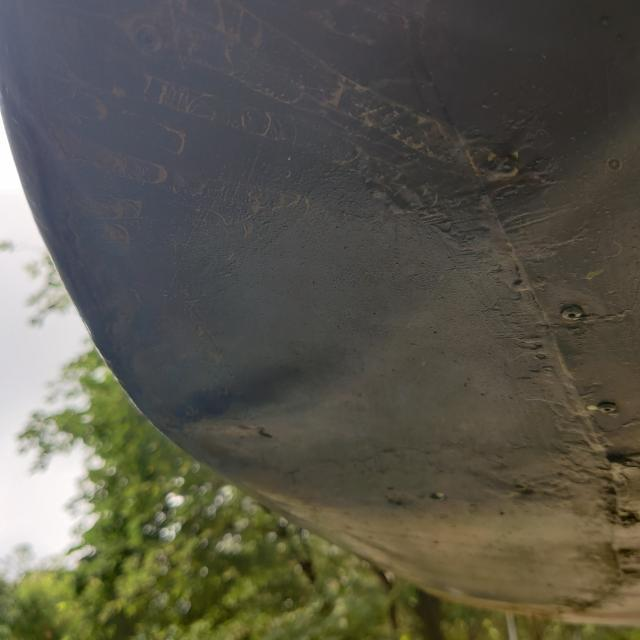dent: (132, 316, 364, 482)
